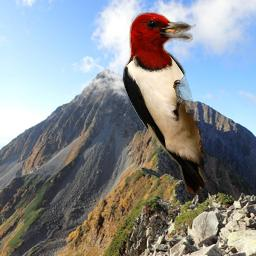Woodpecker: (122, 12, 205, 194)
